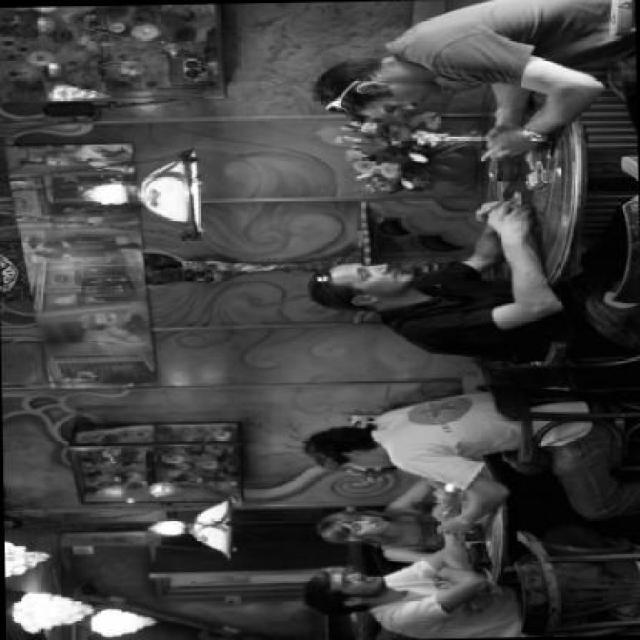smoke: (478, 144, 494, 160)
